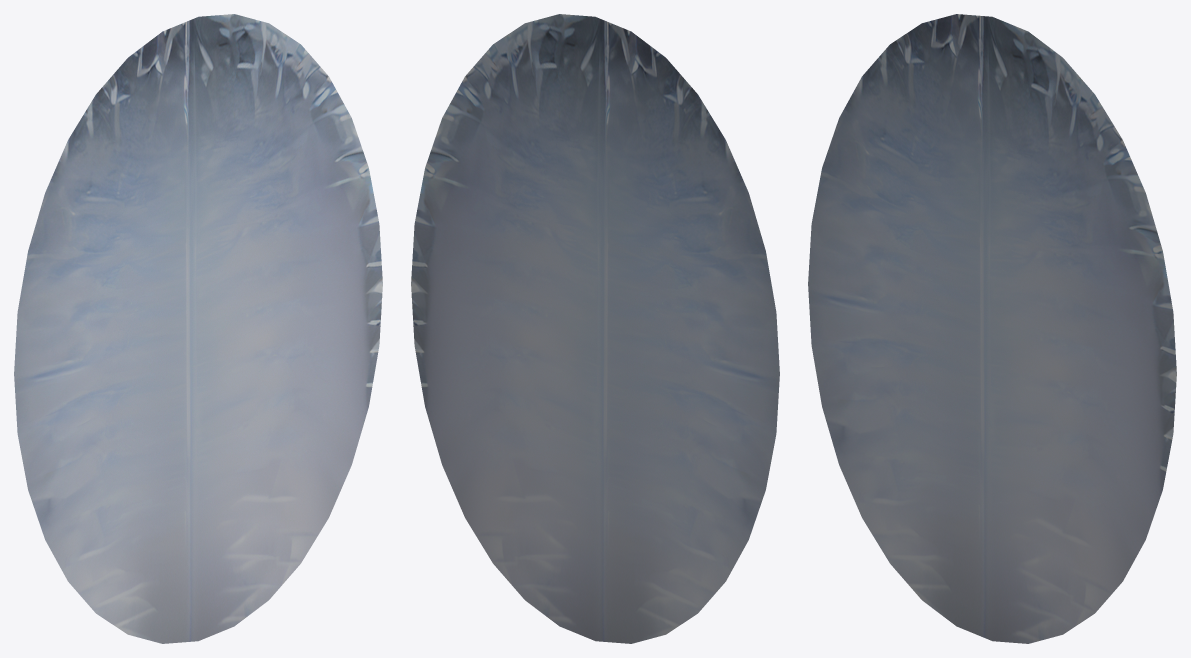
The model's file is PortalStencilMask.fbx.
3 renders of one model, left to right at view 1: azimuth 30°, elevation 25°; view 2: azimuth 150°, elevation 25°; view 3: azimuth 330°, elevation 25°, orthographic.
Parts seen in each view (by area): view 1: PortalStencilMask; view 2: PortalStencilMask; view 3: PortalStencilMask.
Part boxes in pixels (bbox=[...]): PortalStencilMask: bbox=[14, 14, 382, 643]; PortalStencilMask: bbox=[411, 14, 779, 643]; PortalStencilMask: bbox=[808, 14, 1176, 643].
Size of the model in its own units: 1.11 by 1.8 by 3.37e-07.
Materials: 1 (1 with a texture image).
